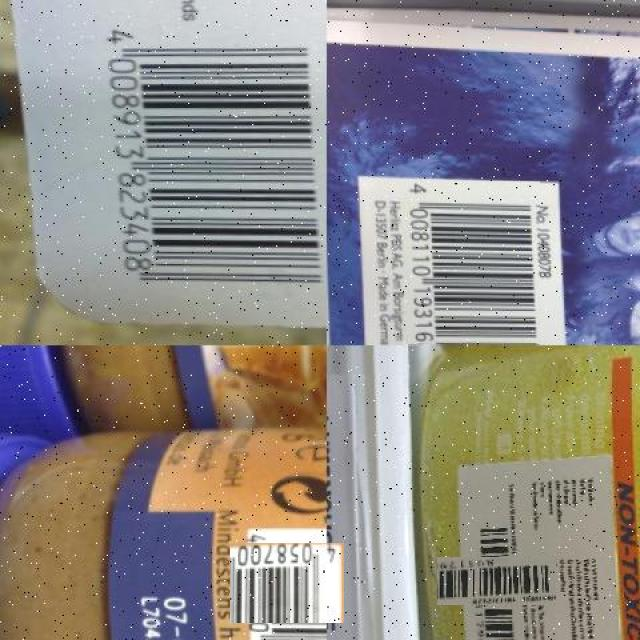Barcode: (92, 24, 327, 300), (403, 182, 540, 346), (238, 534, 335, 632), (454, 539, 539, 622)
